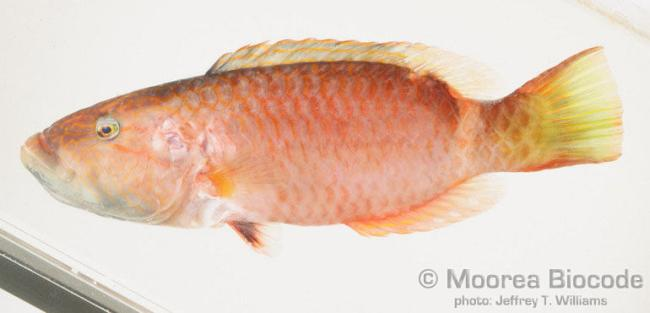fish: (19, 35, 624, 258)
